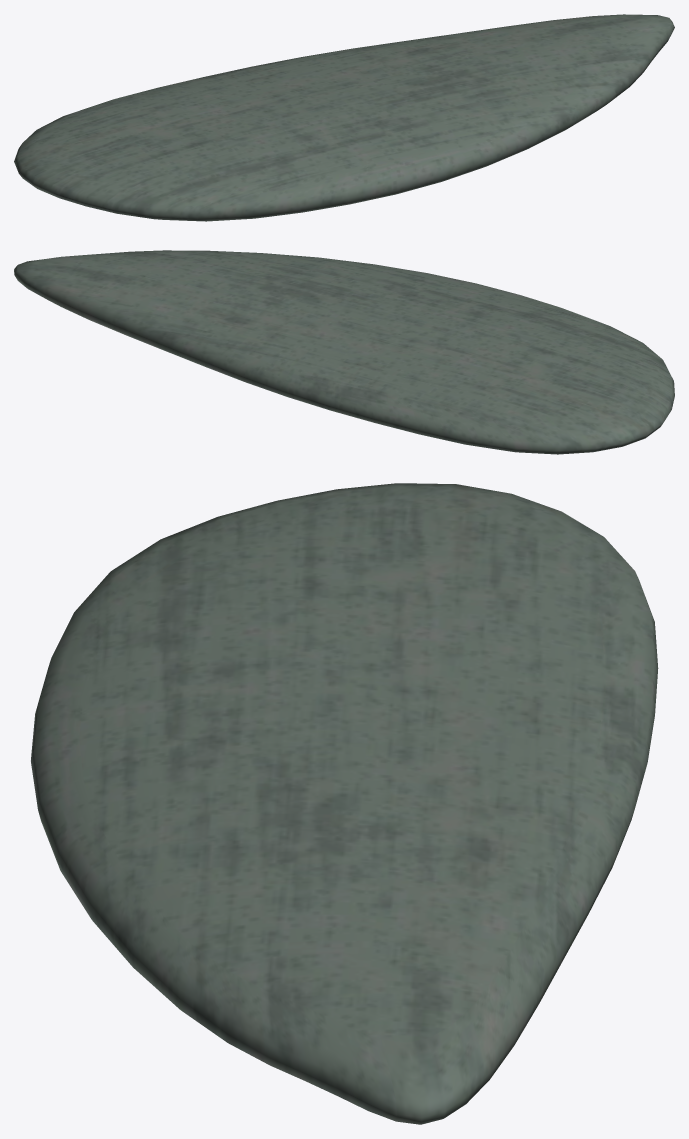
The model's file is willow_leaf_01.glb.
3 views of the same model, one above another, from view 1: azimuth 30°, elevation 25°; view 2: azimuth 150°, elevation 25°; view 3: azimuth 270°, elevation 25° (orthographic). The views are drawn at different scales.
Visible parts, largest first — view 1: willow_leaf_01; view 2: willow_leaf_01; view 3: willow_leaf_01.
Part boxes in pixels (x1,y1,x2,y2): willow_leaf_01: [14, 14, 674, 221]; willow_leaf_01: [14, 250, 674, 454]; willow_leaf_01: [31, 483, 658, 1124].
Size of the model in its own units: 0.104 by 0.00746 by 0.0439.
Materials: 1 (1 with a texture image).
